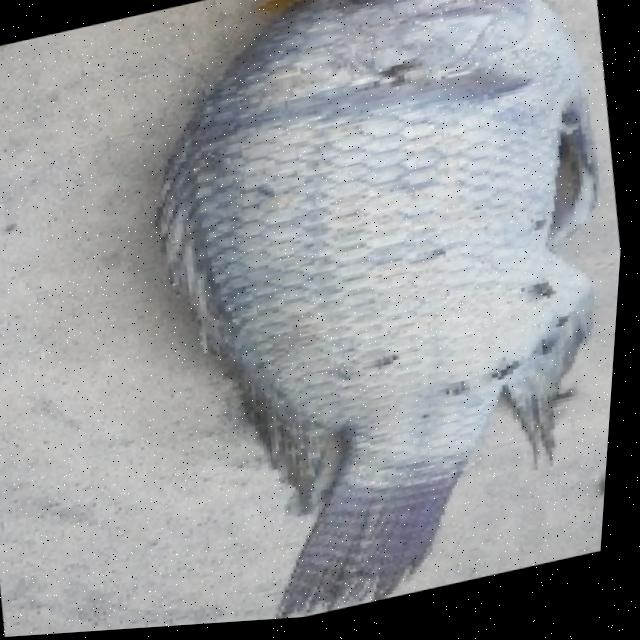Non-Fresh: (131, 0, 640, 549)
